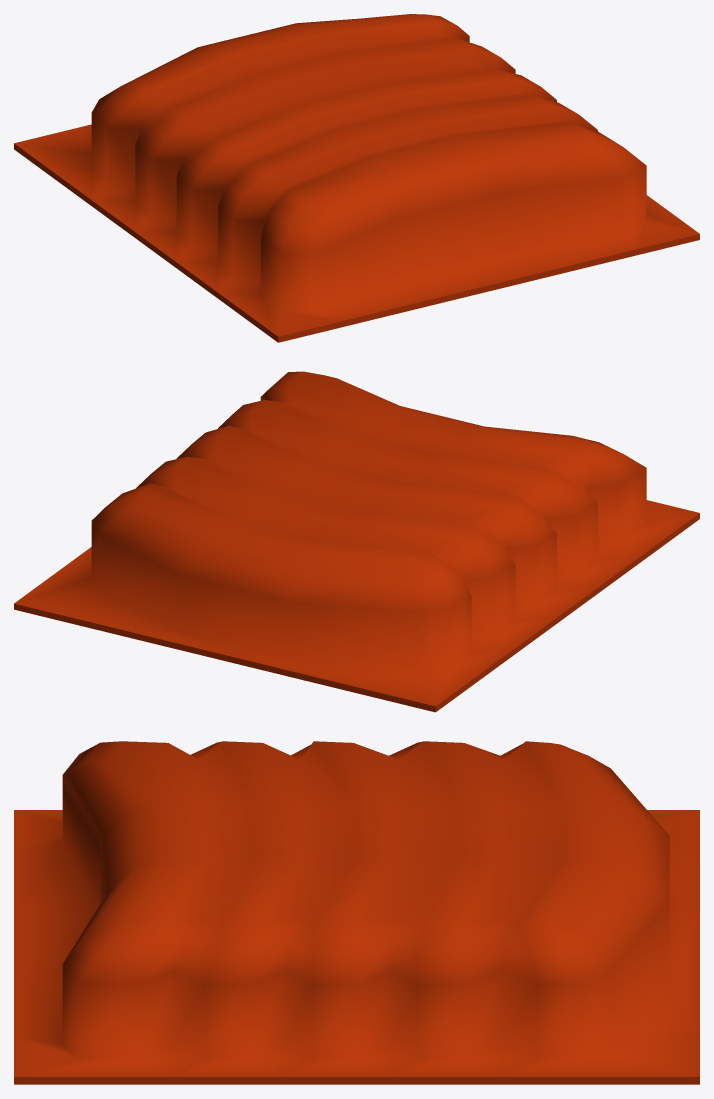
Rendered from SausageFrankfruter.fbx.
The picture shows the model from 3 angles, top to bottom: view 1: azimuth 30°, elevation 25°; view 2: azimuth 150°, elevation 25°; view 3: azimuth 270°, elevation 25°; orthographic projection. The views are drawn at different scales.
Visible parts, largest first — view 1: Sausage_Frankfruter set; view 2: Sausage_Frankfruter set; view 3: Sausage_Frankfruter set.
Boxes of the visible parts, x1,y1,x2,y2 form: Sausage_Frankfruter set: (14,14,699,342); Sausage_Frankfruter set: (14,371,699,712); Sausage_Frankfruter set: (14,741,699,1084).
Bounding box in the file's own units: 30.95 × 6.41 × 33.6.
